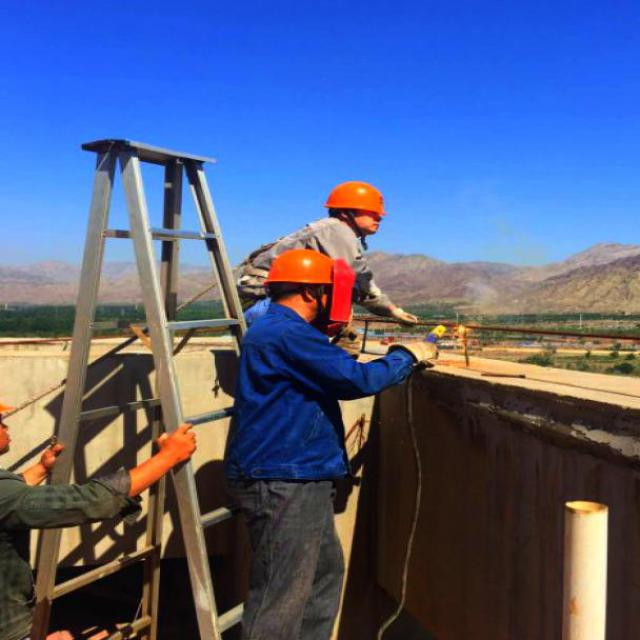gloves: (382, 329, 444, 366), (380, 297, 417, 329)
helmet: (253, 246, 351, 321), (312, 171, 403, 243)
